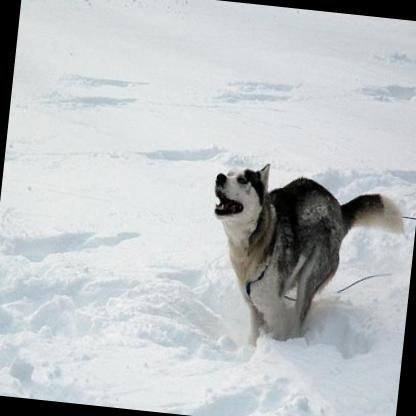Siberian_husky: (198, 154, 410, 361)
